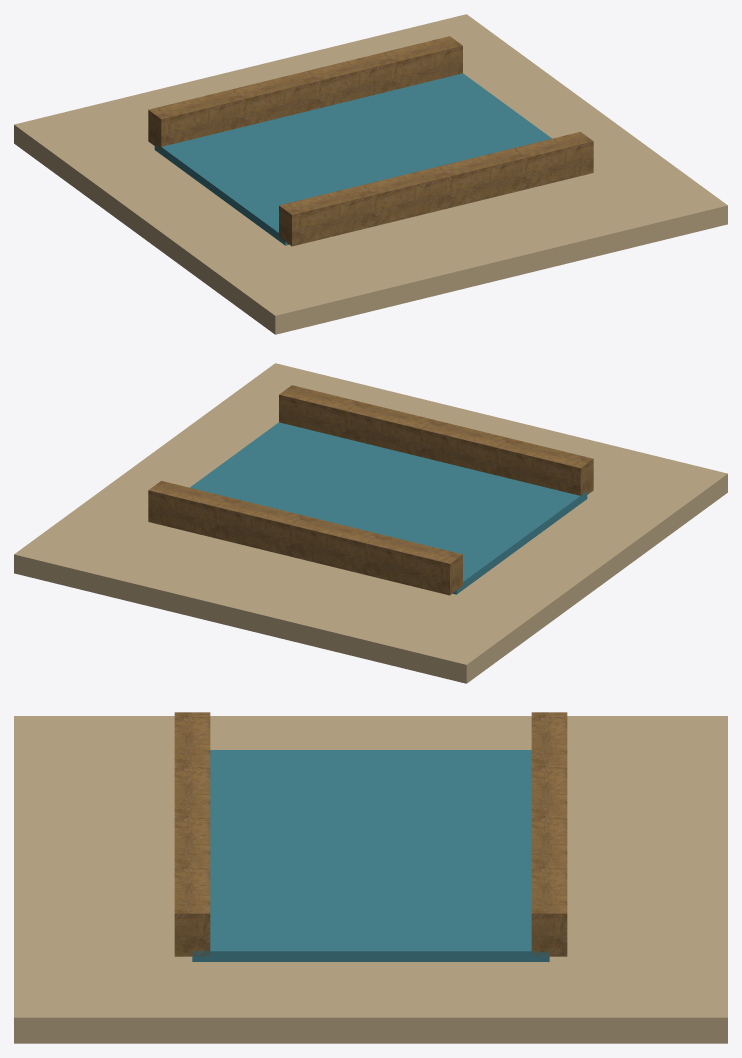
The model's file is piscina.glb.
3 renders of one model, top to bottom at view 1: azimuth 30°, elevation 25°; view 2: azimuth 150°, elevation 25°; view 3: azimuth 270°, elevation 25°, orthographic. The views are drawn at different scales.
Parts seen in each view (by area): view 1: Base ilustrativa, Espelho de água, Borda.001, Borda; view 2: Base ilustrativa, Espelho de água, Borda, Borda.001; view 3: Base ilustrativa, Espelho de água, Borda, Borda.001.
Part boxes in pixels (<box>): Base ilustrativa: <box>14,14,727,334</box>; Espelho de água: <box>154,73,551,245</box>; Borda.001: <box>279,132,593,246</box>; Borda: <box>148,36,462,150</box>; Base ilustrativa: <box>14,363,727,683</box>; Espelho de água: <box>190,422,587,594</box>; Borda: <box>148,481,462,595</box>; Borda.001: <box>279,385,593,495</box>; Base ilustrativa: <box>14,716,727,1043</box>; Espelho de água: <box>192,750,549,961</box>; Borda: <box>531,712,567,956</box>; Borda.001: <box>174,712,210,956</box>.
Size of the model in its own units: 6 by 0.74 by 6.
Materials: 3 (1 with a texture image).
